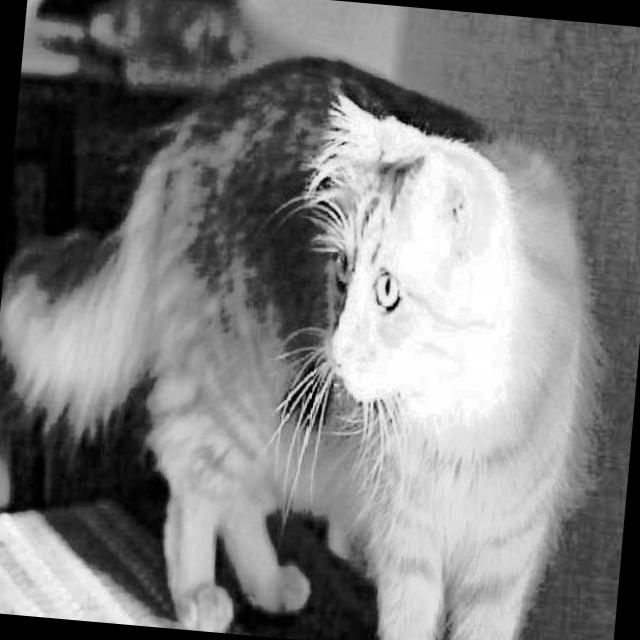Cat: (0, 21, 629, 640)
